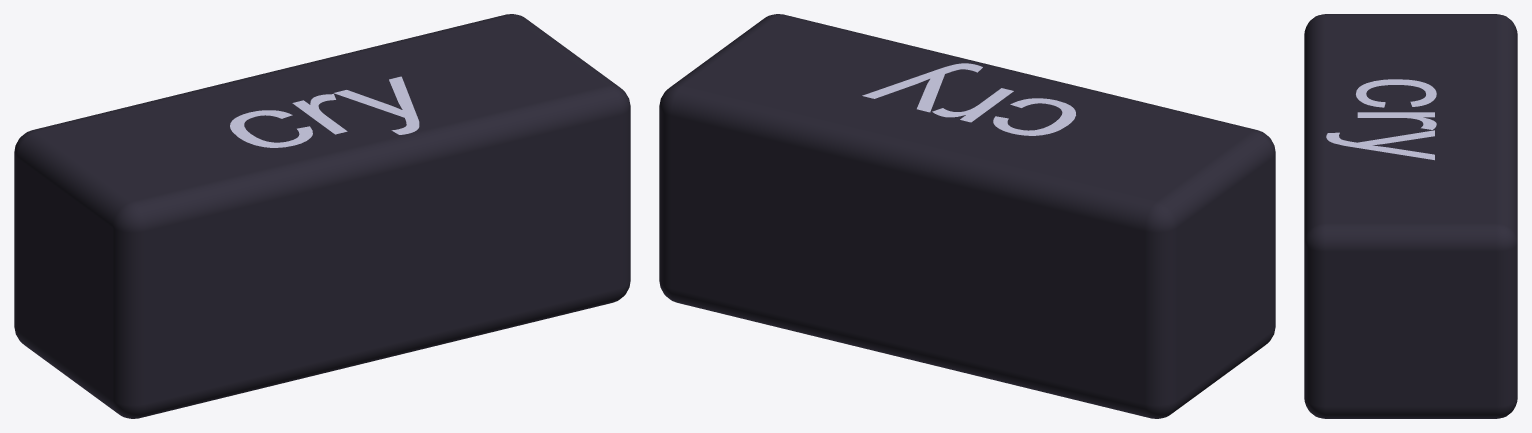
Rendered from cry.glb.
3 views of the same model, side by side, from view 1: azimuth 30°, elevation 25°; view 2: azimuth 150°, elevation 25°; view 3: azimuth 270°, elevation 25° (orthographic). The views are drawn at different scales.
Parts seen in each view (by area): view 1: Cut, Extrude; view 2: Cut, Extrude; view 3: Cut, Extrude.
Boxes of the visible parts, x1,y1,x2,y2 form: Cut: (14,14,630,418); Extrude: (230,76,419,147); Cut: (659,14,1275,418); Extrude: (862,63,1075,135); Cut: (1304,14,1517,418); Extrude: (1326,79,1436,160).
Size of the model in its own units: 5 by 2 by 2.
